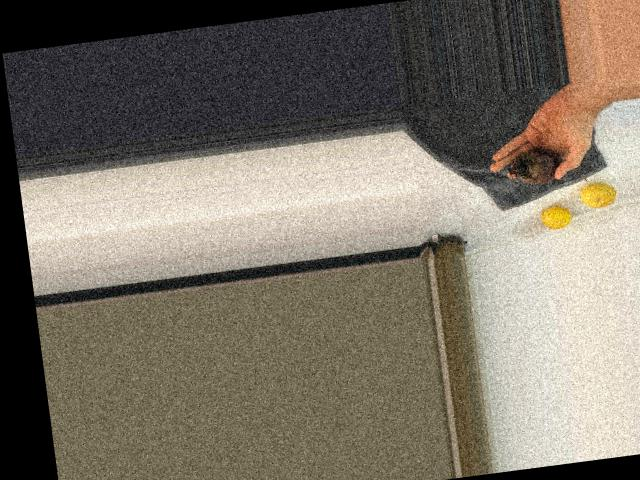beet: (506, 142, 587, 191)
